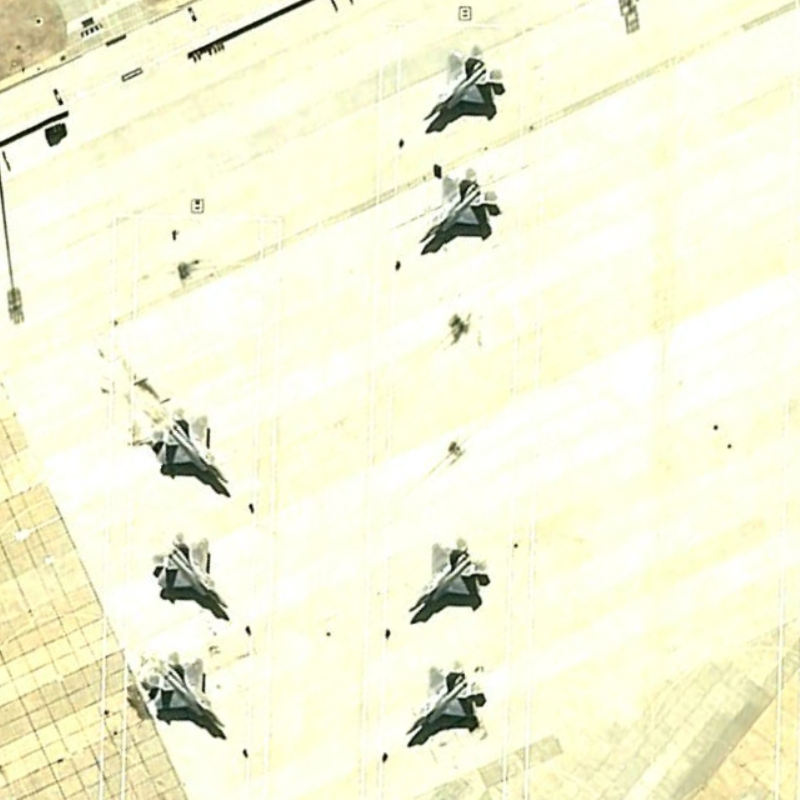A15: (135, 644, 230, 735), (417, 41, 509, 130), (413, 163, 501, 254), (145, 527, 234, 616), (145, 403, 232, 494), (403, 534, 492, 619)
